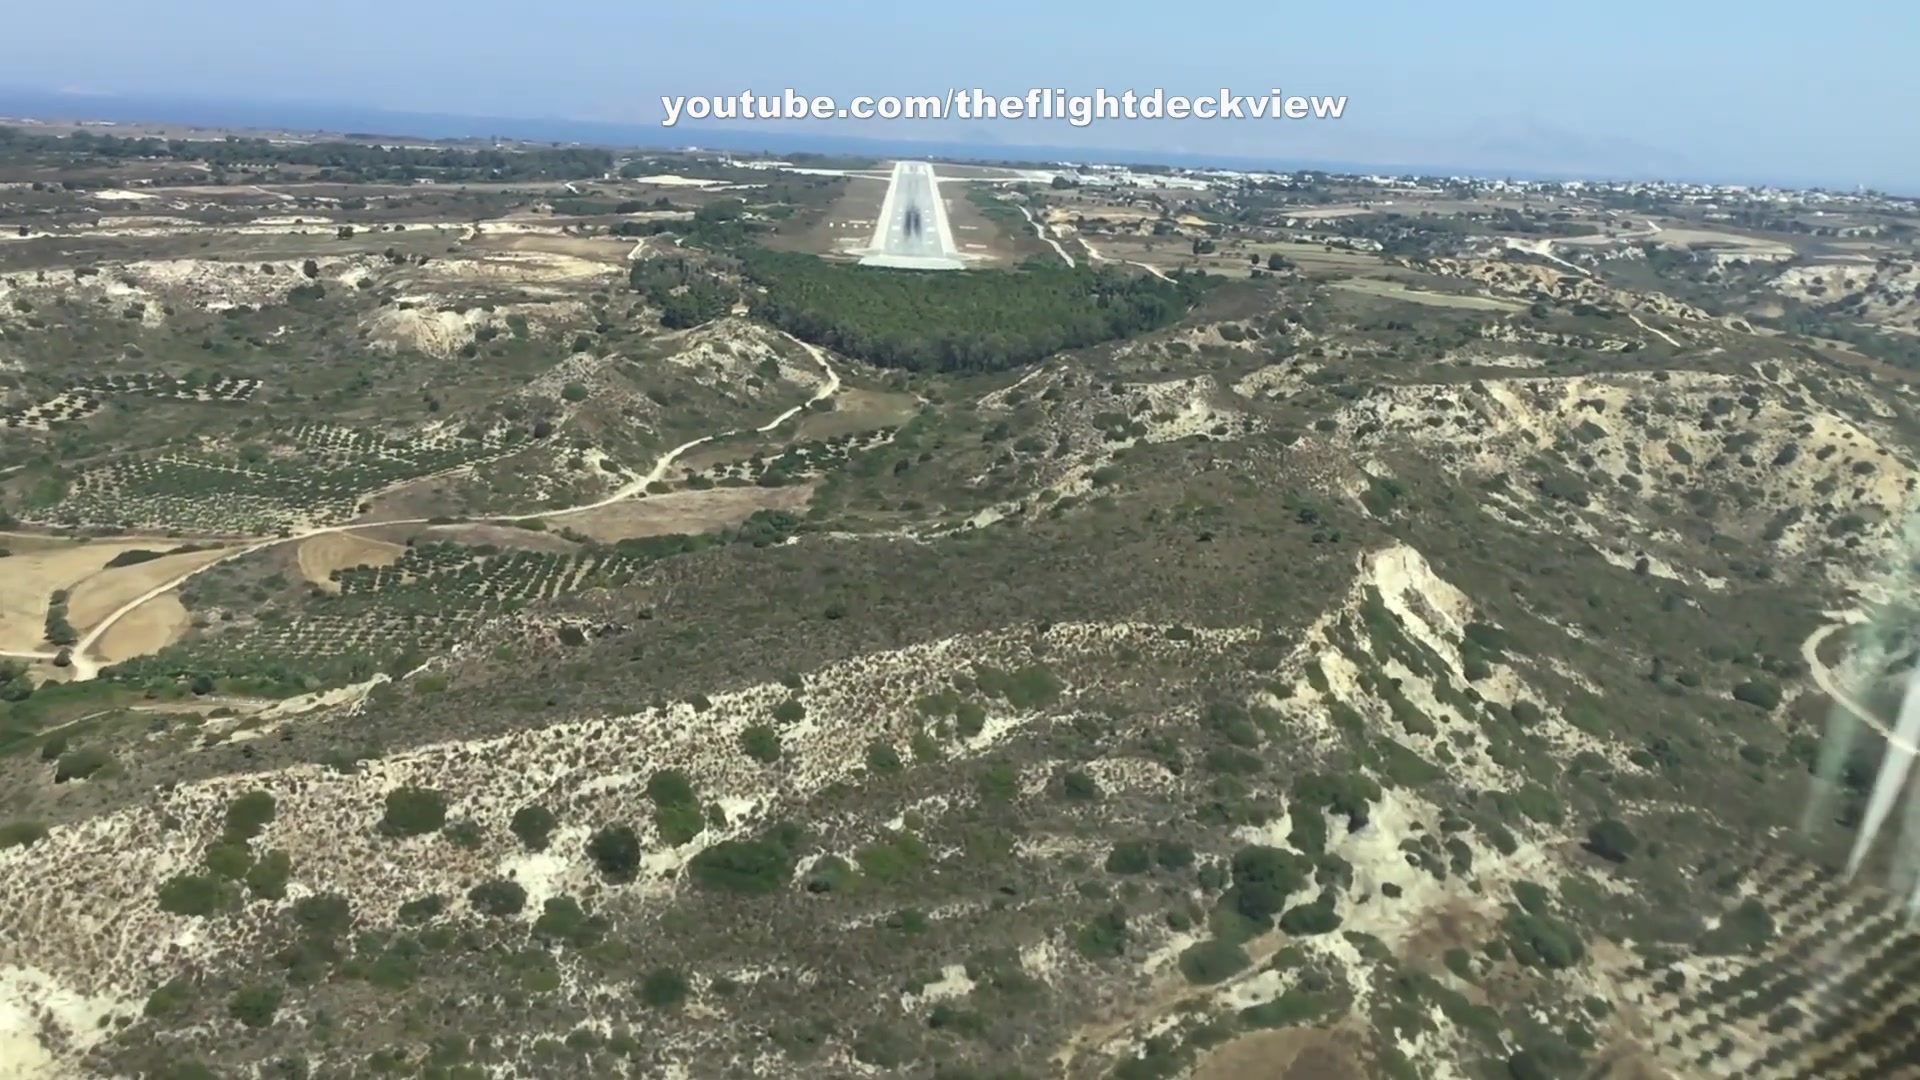runway: (864, 161, 957, 266)
